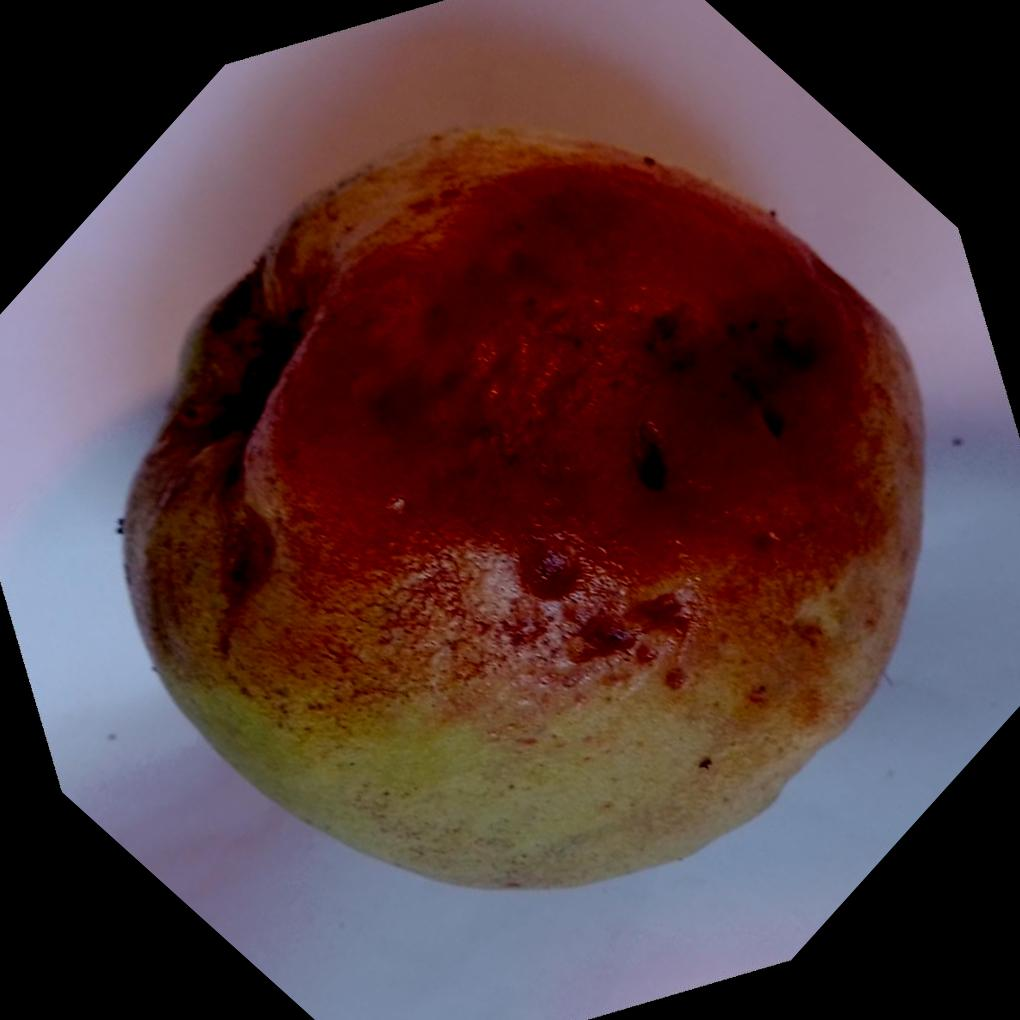FreshOrange: (119, 125, 930, 895)
